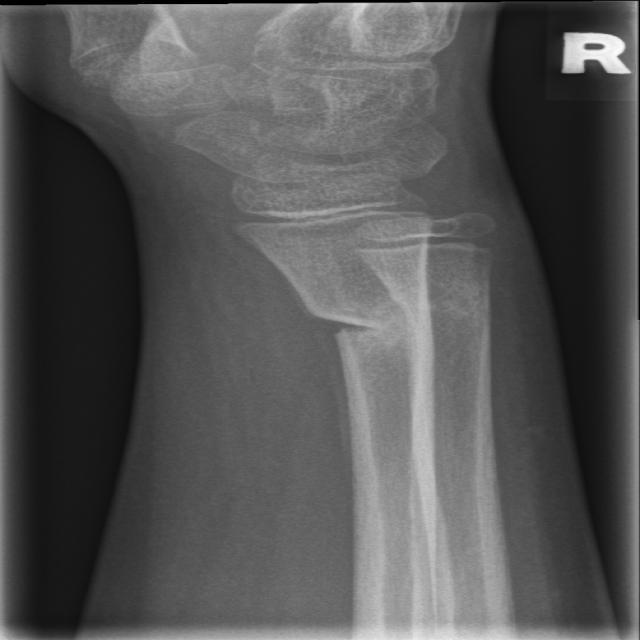radius fracture: (214, 247, 496, 428)
